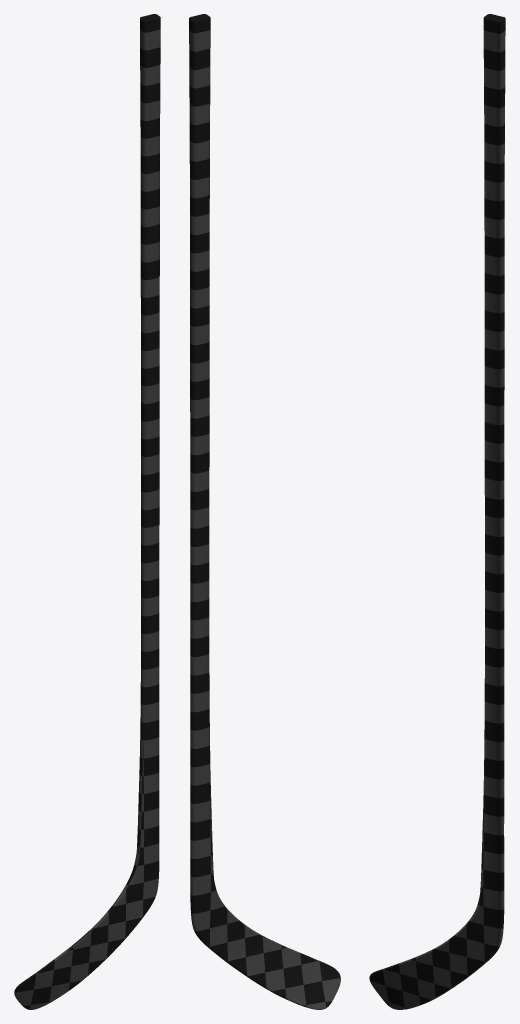
File: P39-SBO.glb
3 views of the same model, side by side, from view 1: azimuth 30°, elevation 25°; view 2: azimuth 210°, elevation 25°; view 3: azimuth 330°, elevation 25° (orthographic). The views are drawn at different scales.
Visible parts, largest first — view 1: geometry_0; view 2: geometry_0; view 3: geometry_0.
Part boxes in pixels (x1,y1,x2,y2): geometry_0: [14, 14, 160, 1009]; geometry_0: [189, 14, 340, 1009]; geometry_0: [369, 14, 505, 1009].
Size of the model in its own units: 240 by 1650 by 46.74.
1 material, 1 textured.
